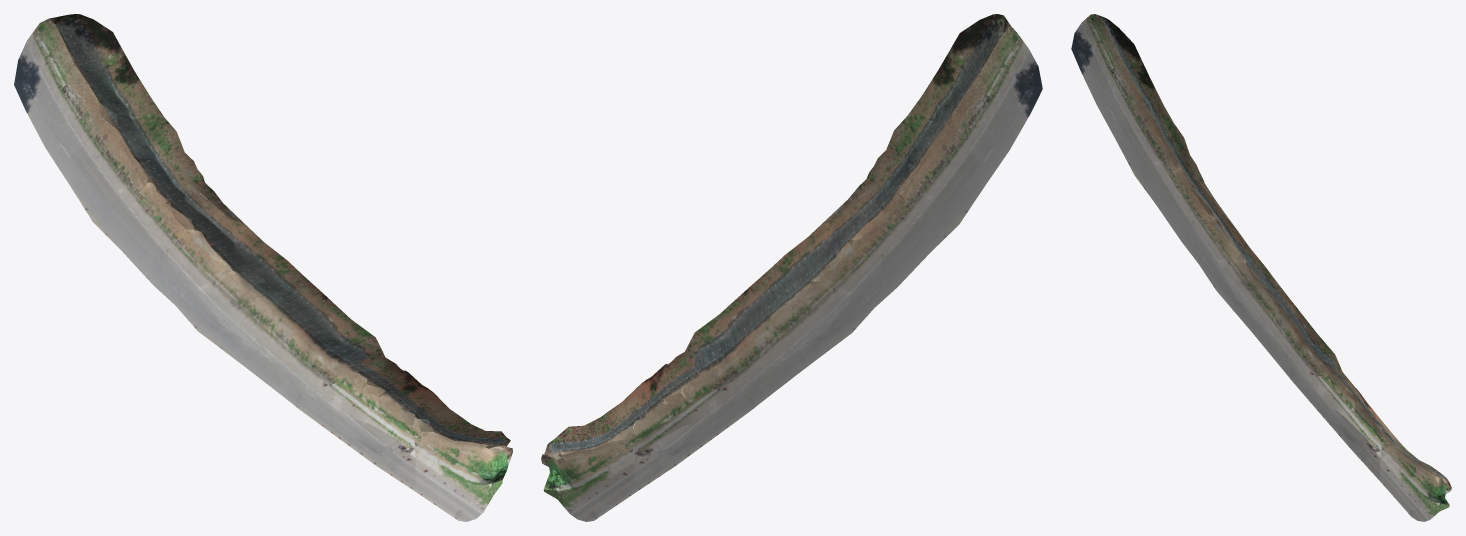
3 renders of one model, left to right at view 1: azimuth 30°, elevation 25°; view 2: azimuth 150°, elevation 25°; view 3: azimuth 330°, elevation 25°, orthographic. The views are drawn at different scales.
Visible parts, largest first — view 1: Bloco 1; view 2: Bloco 1; view 3: Bloco 1.
Boxes of the visible parts, x1,y1,x2,y2 form: Bloco 1: [14, 14, 512, 521]; Bloco 1: [541, 14, 1042, 521]; Bloco 1: [1071, 14, 1451, 521].
Size of the model in its own units: 112 by 130 by 11.19.
1 material, 1 textured.
